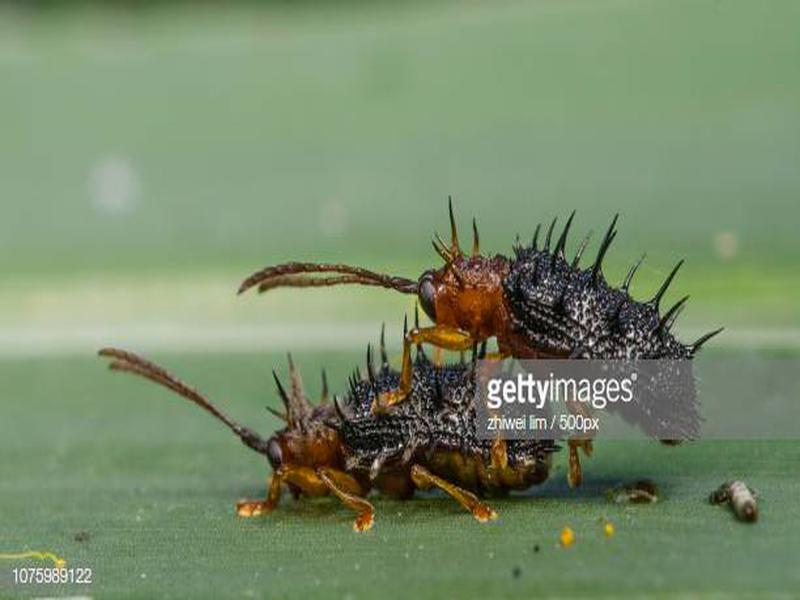Spiny_beetle: (242, 369, 475, 532), (400, 225, 666, 352)
